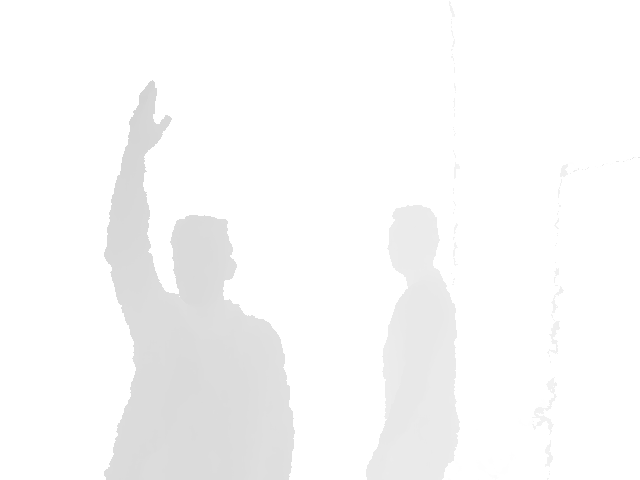hand: (126, 80, 172, 153)
head: (169, 214, 236, 304), (387, 206, 440, 283)
person: (103, 80, 295, 479), (364, 204, 459, 480)
